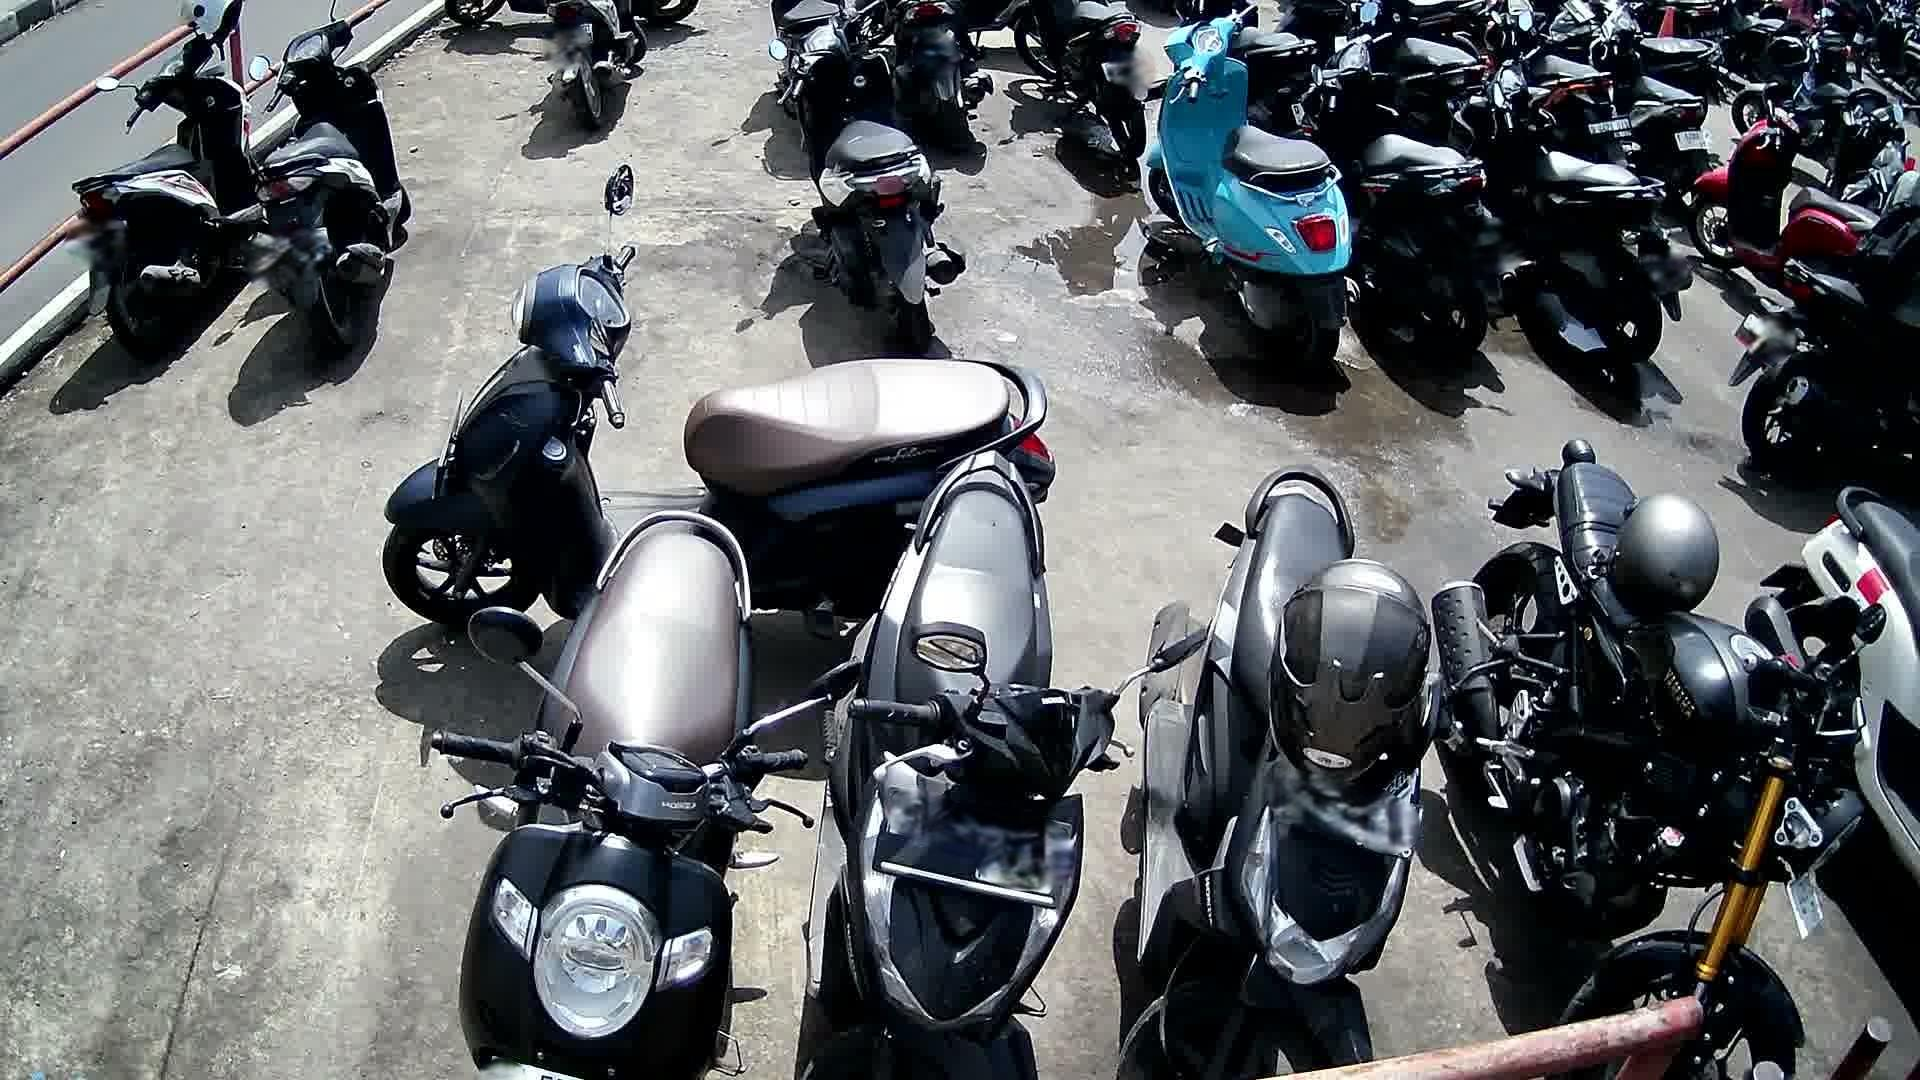motorcycle: (381, 164, 1059, 638), (1432, 436, 1865, 1080), (798, 452, 1179, 1080), (427, 509, 845, 1080), (1120, 463, 1444, 1080), (1139, 5, 1370, 386), (1440, 57, 1688, 372), (1295, 26, 1524, 367), (1745, 483, 1920, 893), (767, 0, 969, 355), (67, 26, 266, 369), (248, 0, 415, 365), (1722, 252, 1920, 481), (1691, 92, 1879, 299)
